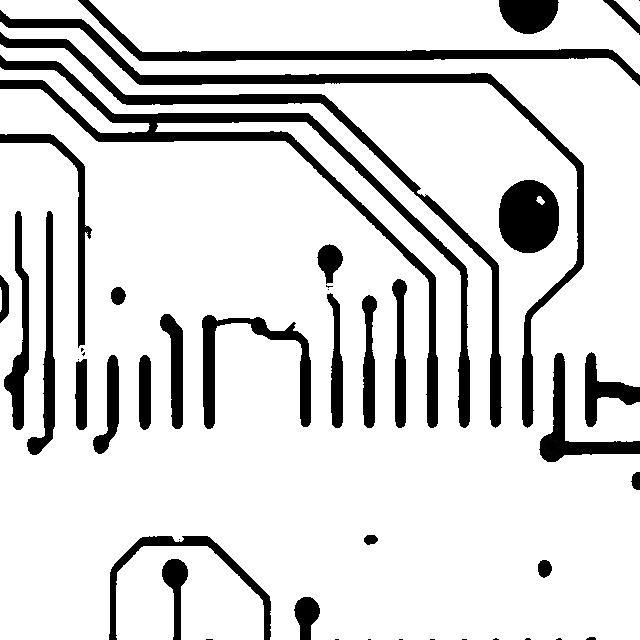copper: (354, 525, 387, 554)
mousebite: (407, 178, 438, 206), (162, 525, 193, 551)
open: (64, 335, 97, 371), (310, 273, 347, 303)
pin-hole: (526, 186, 554, 214)
short: (203, 308, 265, 335), (136, 110, 167, 145)
spur: (71, 214, 101, 248), (274, 312, 305, 343)
